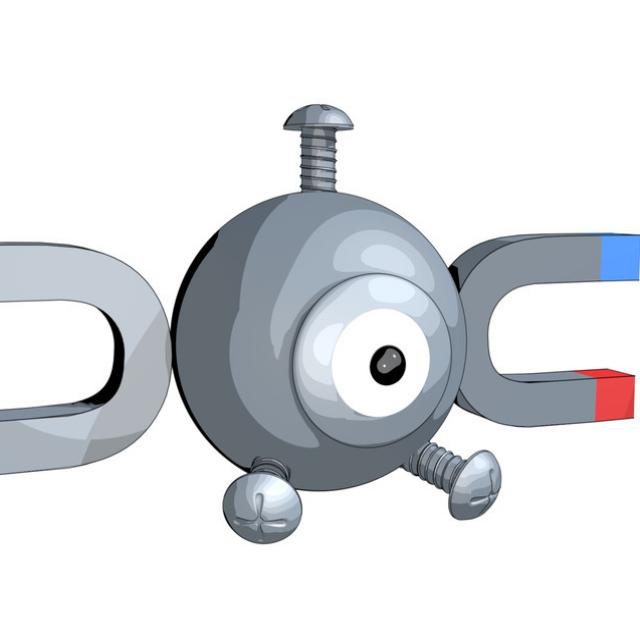Magnemite: (0, 147, 640, 526)
